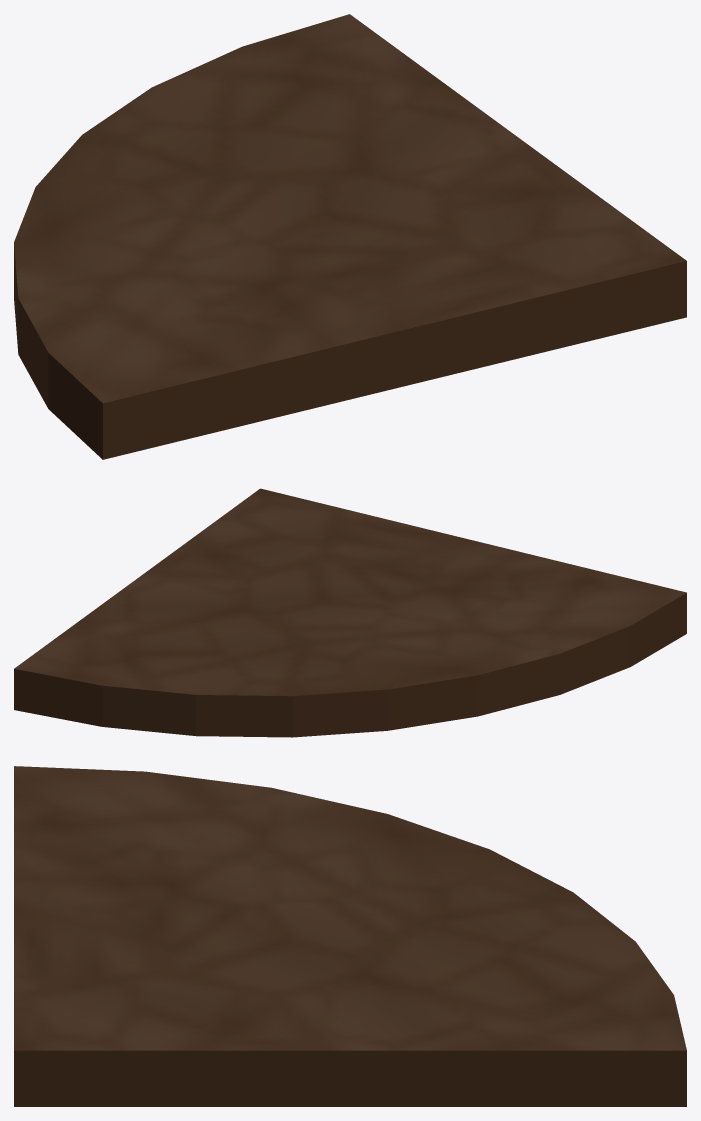
Rendered from canto chao.fbx.
3 renders of one model, top to bottom at view 1: azimuth 30°, elevation 25°; view 2: azimuth 150°, elevation 25°; view 3: azimuth 270°, elevation 25°, orthographic. The views are drawn at different scales.
Visible parts, largest first — view 1: Circle; view 2: Circle; view 3: Circle.
Boxes of the visible parts, x1=… form: Circle: x1=14, y1=14, x2=686, y2=459; Circle: x1=14, y1=488, x2=686, y2=737; Circle: x1=14, y1=766, x2=686, y2=1106.
Bounding box in the file's own units: 100 × 9.24 × 100.
